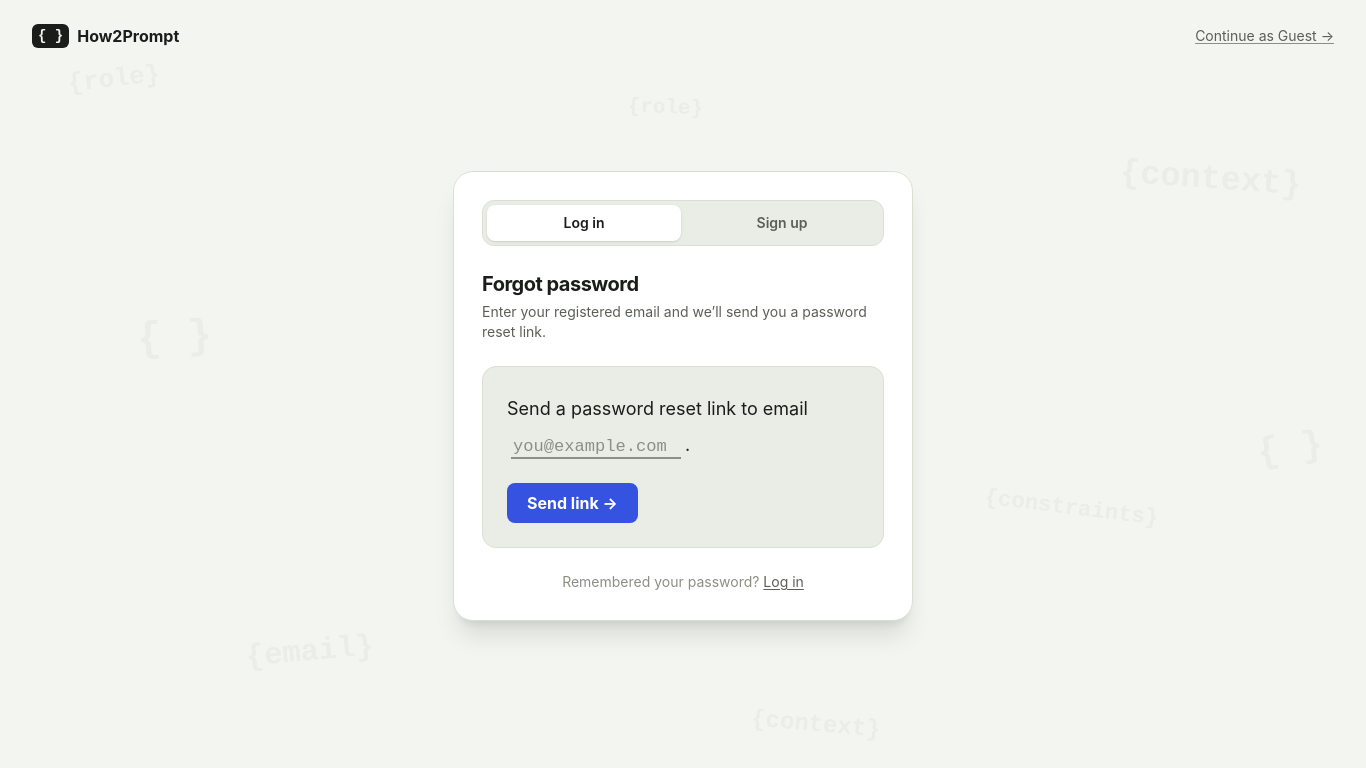
Scenario: ForgotPasswordPage › shows a confirmation message for an email with an existing account
The image size is (1366, 768).
Step 1. Type "demo@how2prompt.dev" into the field with placeholder "you@example.com" → [596, 448], box left=511, top=436, right=681, bottom=459
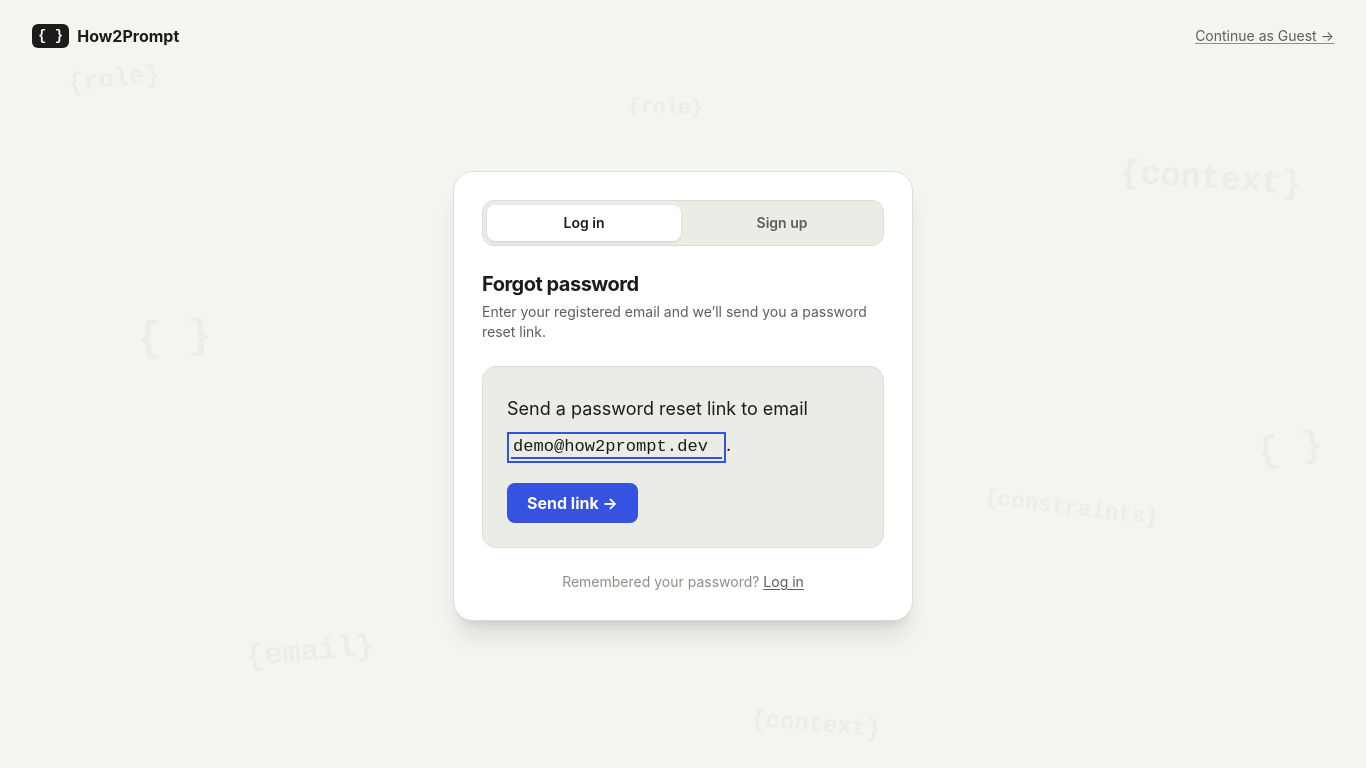
Step 2. Click the button "Send link →" → [572, 503], box left=507, top=483, right=638, bottom=523
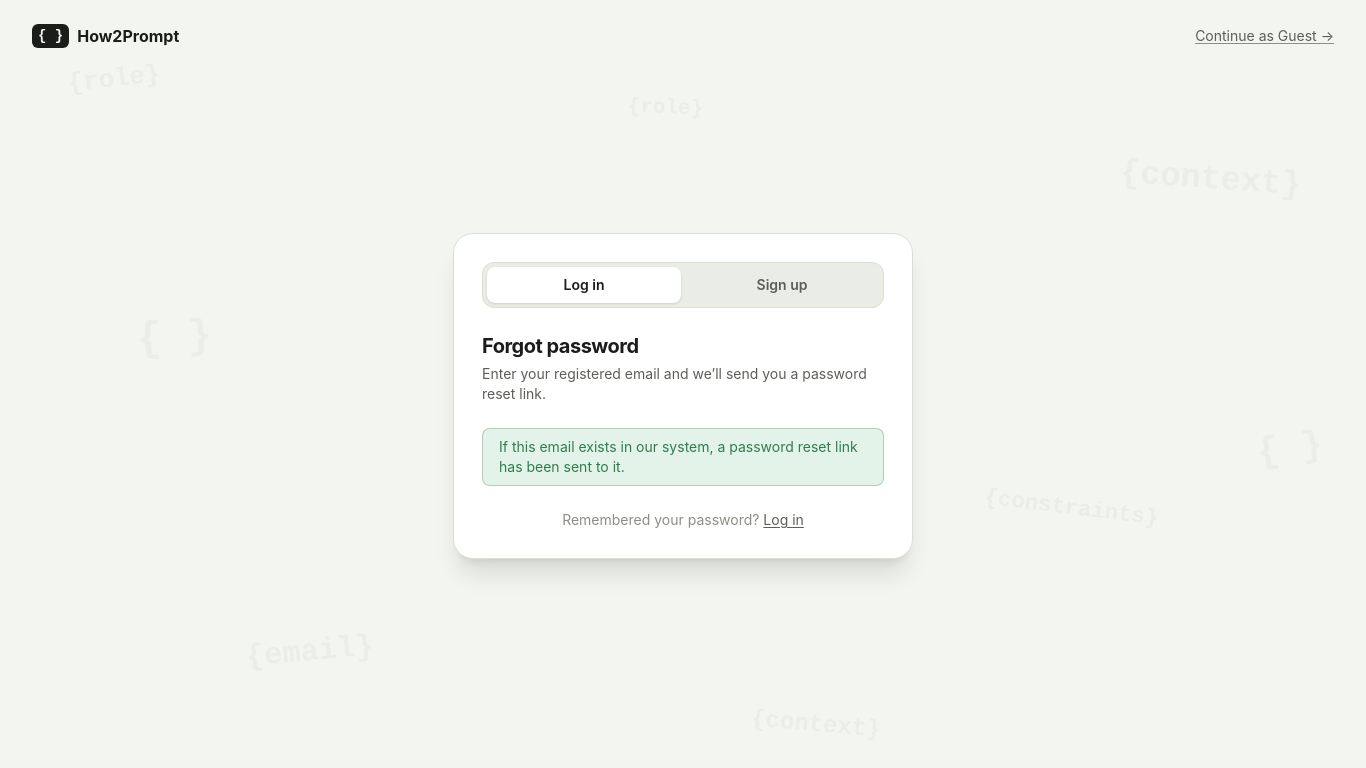
Result: the message reads "If this email exists in our system, a password reset link has been sent to it." at left=499, top=438, right=858, bottom=475
